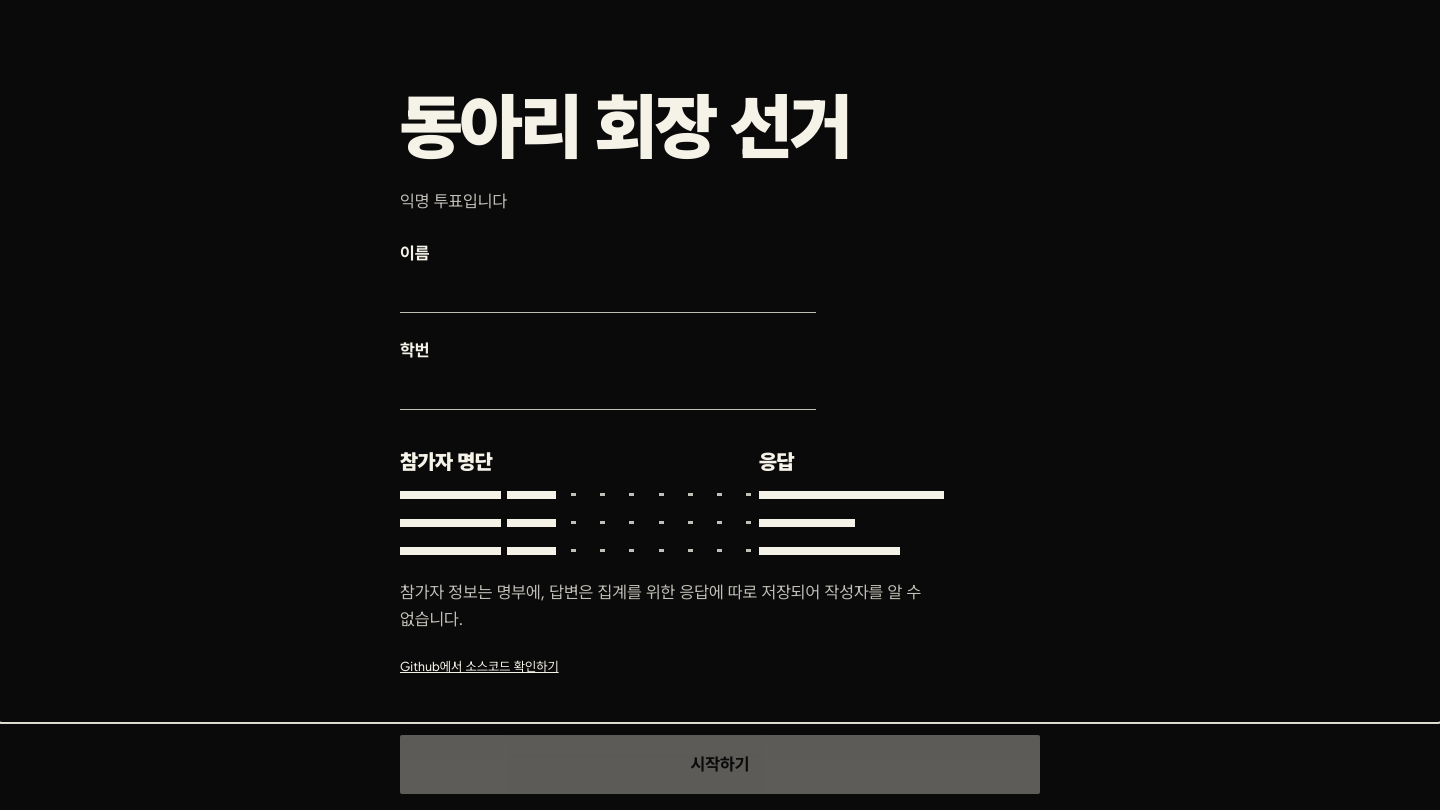
Test: 응답과 제출 › 제출하면 완료 화면이 나온다
Expected: the heading "동아리 회장 선거" is shown, [400,83,850,169]
Step 1. Type "홍길동" into the field labelled "이름" → (608, 294), box [400,275,816,313]
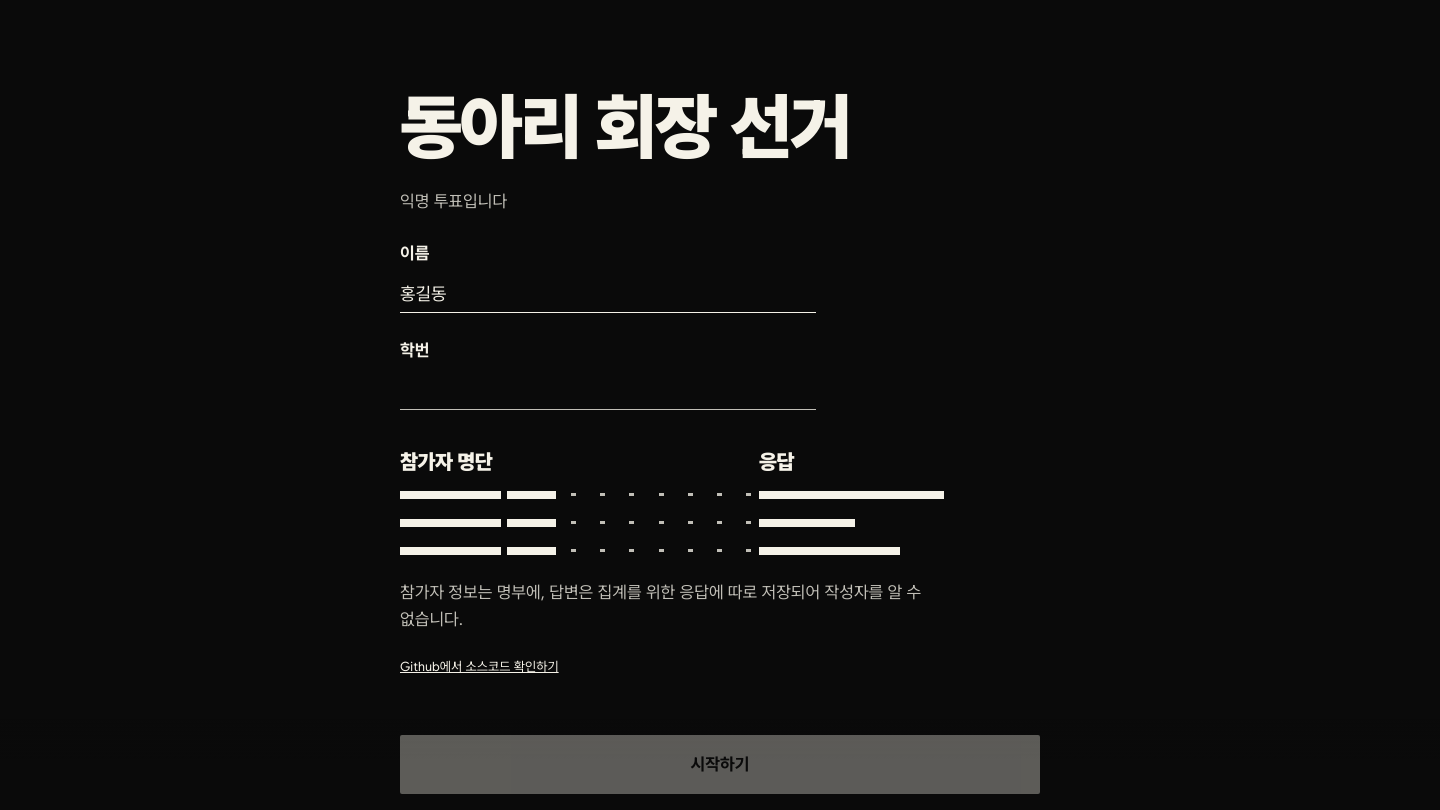
Step 2. Type "20250001" into the field labelled "학번" → (608, 391), box [400,372,816,410]
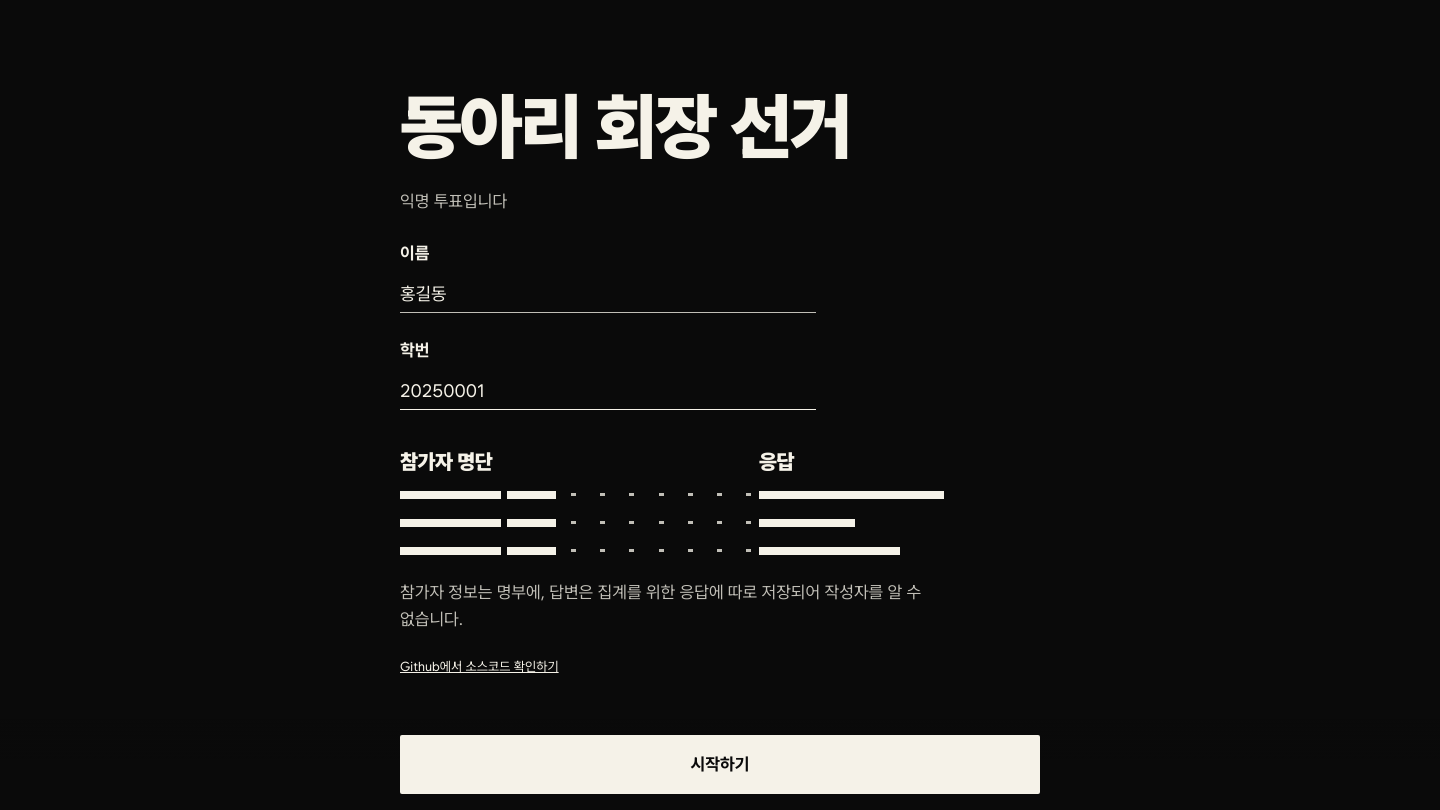
Step 3. Click the button "시작하기" → (720, 764), box [400,735,1040,794]
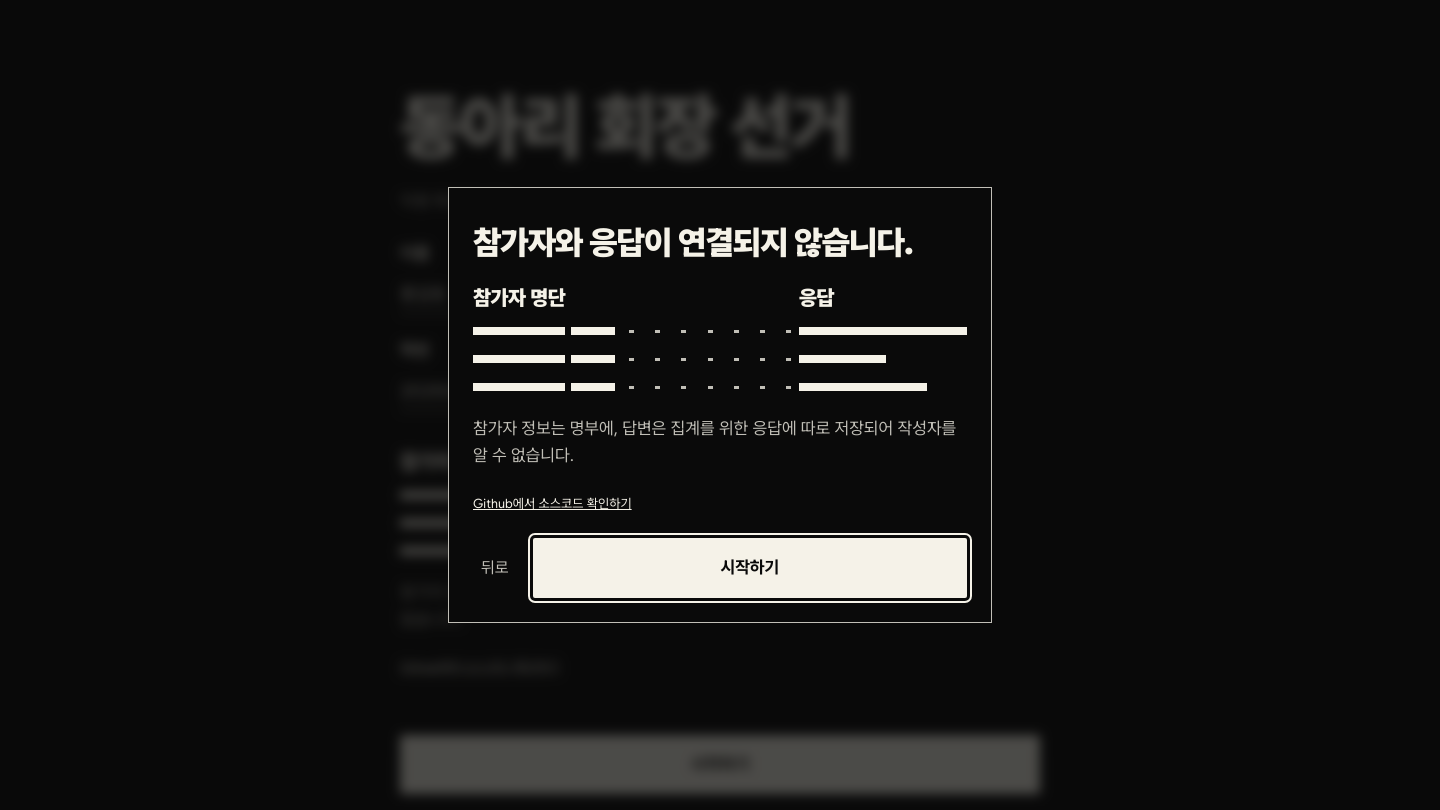
Step 4. Click the button "시작하기" → (750, 568), box [533,538,967,598]
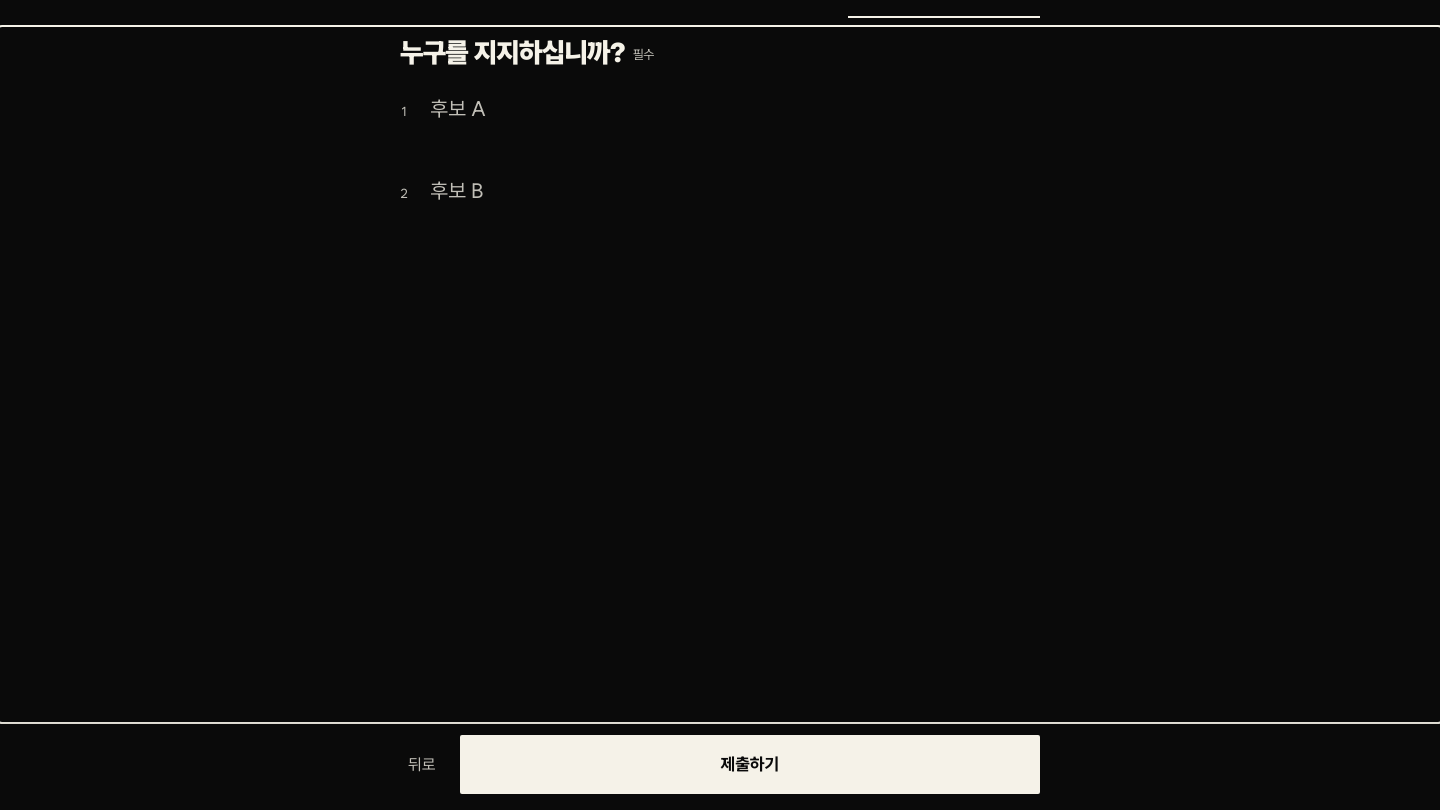
Step 5. Click the radio button labelled "후보 A" → (413, 103), box [405,96,420,111]
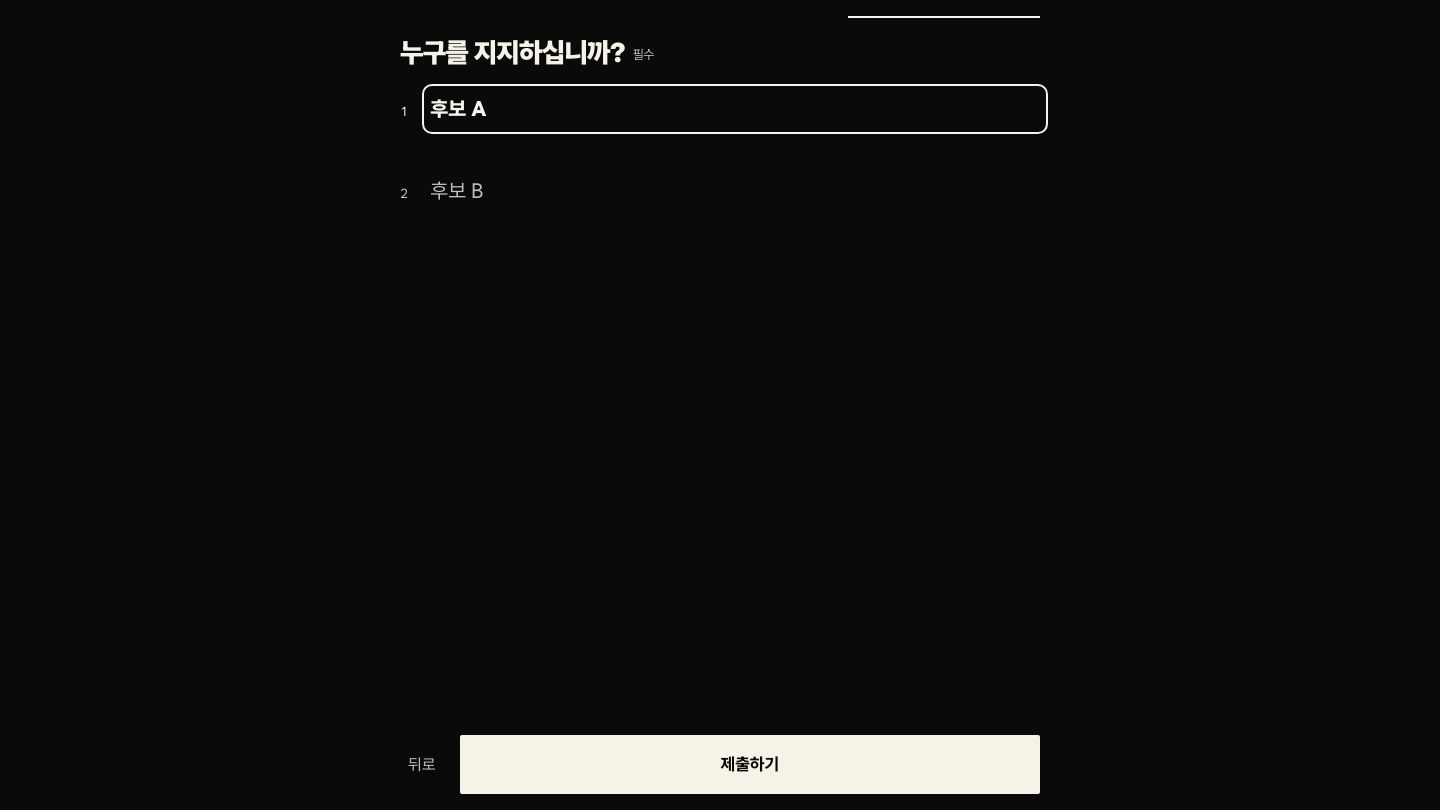
Step 6. Click the button "제출하기" → (750, 764), box [460,735,1040,794]
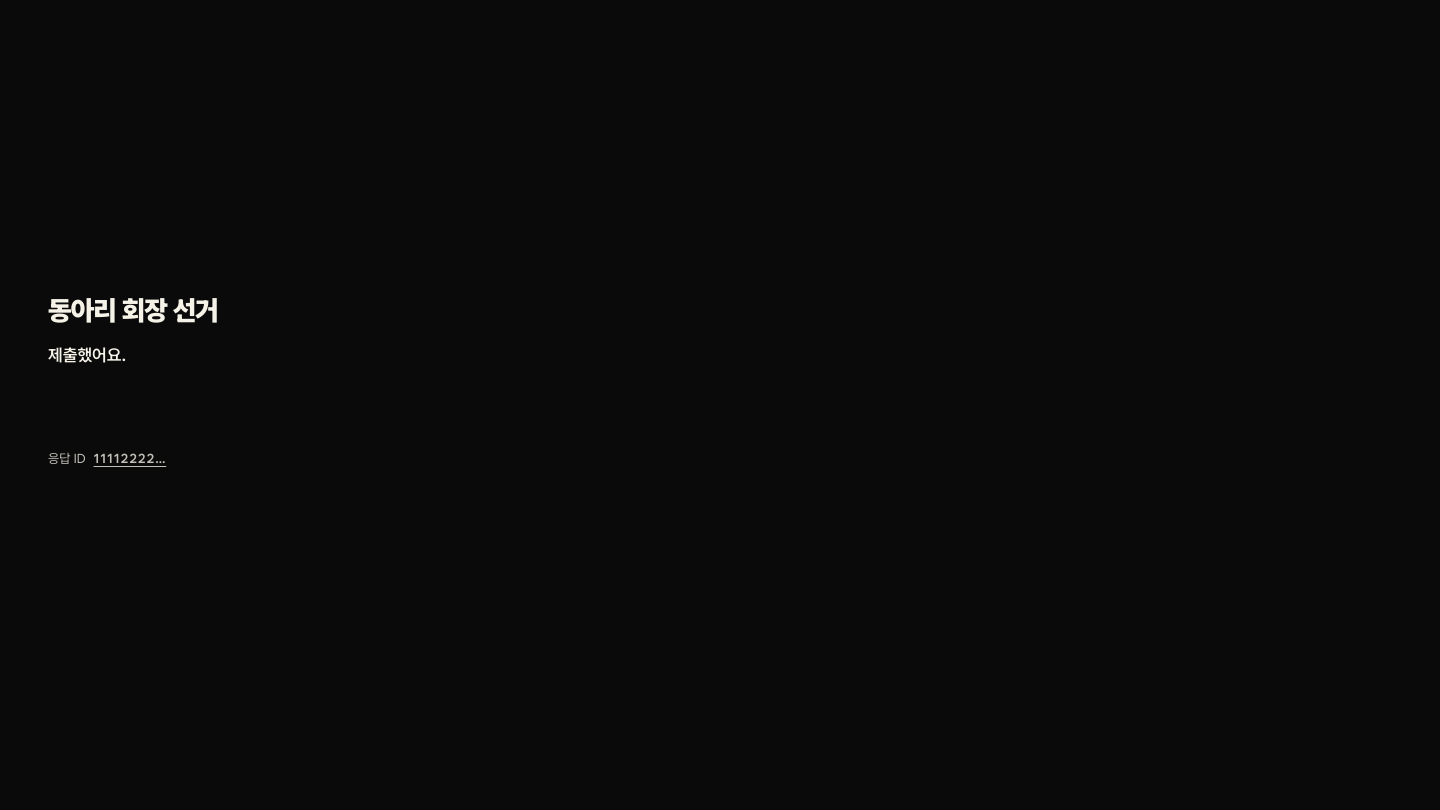
Result: the text "제출했어요." is shown at [48,345,126,365]
